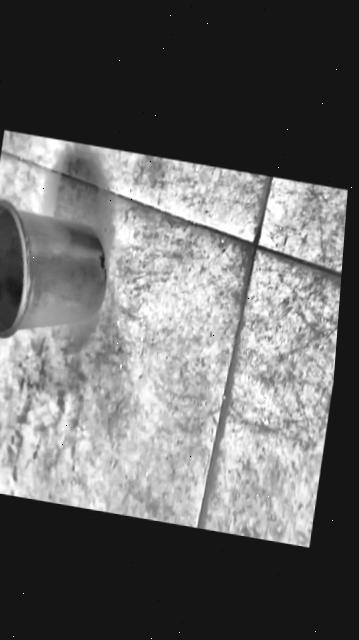pot: (0, 198, 113, 353)
